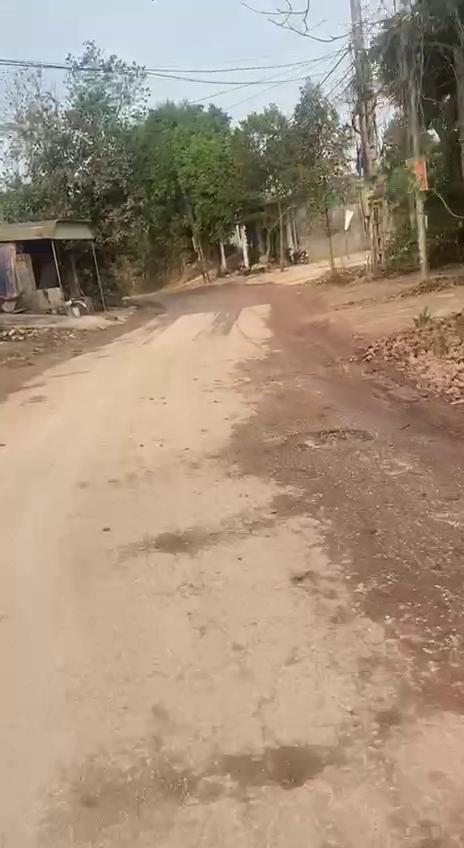pothole: (44, 734, 341, 848), (273, 422, 382, 458), (152, 522, 194, 558)
